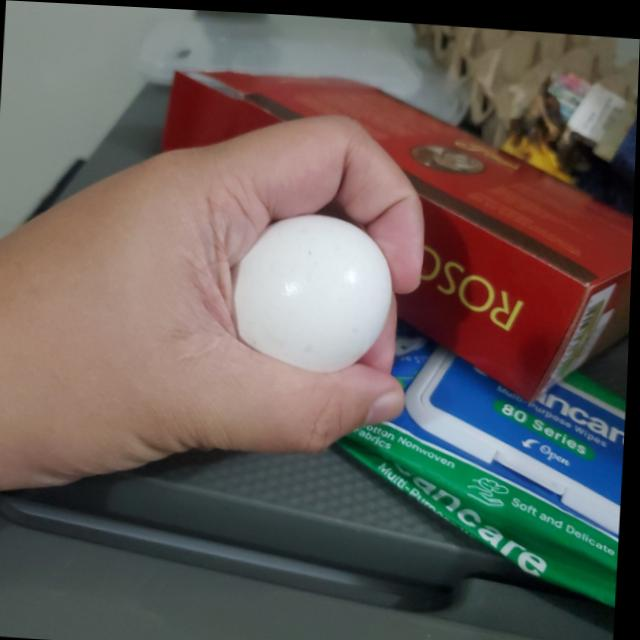egg: (229, 204, 398, 372)
